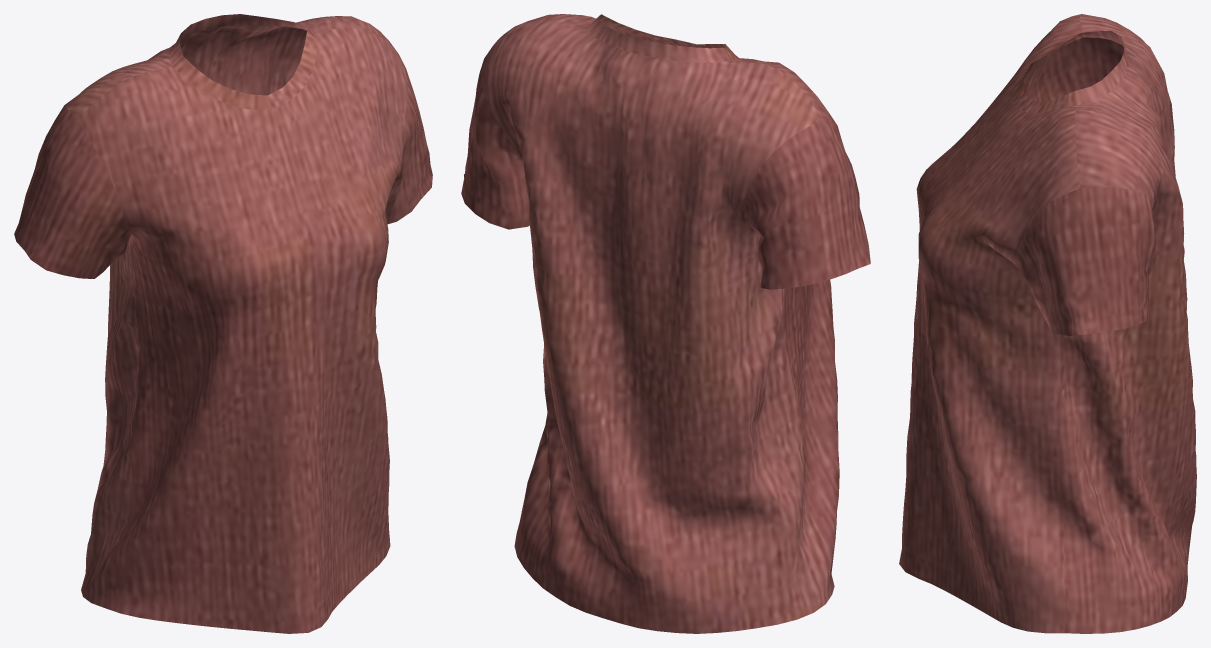
The model's file is 139592 ONLJESSIE brown.fbx.
3 renders of one model, left to right at view 1: azimuth 30°, elevation 25°; view 2: azimuth 150°, elevation 25°; view 3: azimuth 270°, elevation 25°, orthographic. The views are drawn at different scales.
Visible parts, largest first — view 1: 139592 ONLJESSIE; view 2: 139592 ONLJESSIE; view 3: 139592 ONLJESSIE.
Boxes of the visible parts, x1,y1,x2,y2 form: 139592 ONLJESSIE: (14,14,432,633); 139592 ONLJESSIE: (461,14,870,633); 139592 ONLJESSIE: (899,14,1196,633).
Bounding box in the file's own units: 44.73 × 58.44 × 29.26.
